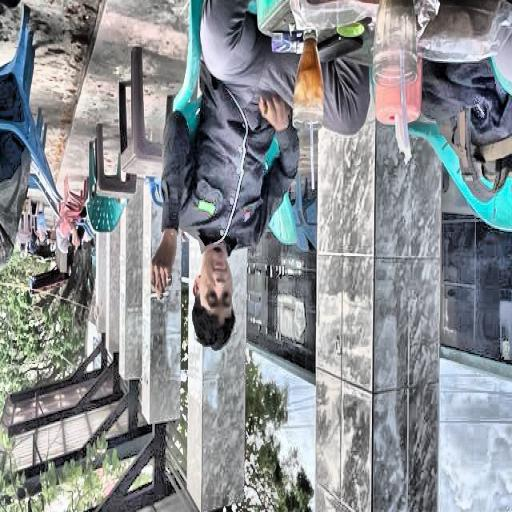Merokok: (150, 292, 158, 299)
Rokok: (193, 247, 233, 321), (150, 230, 181, 299)
